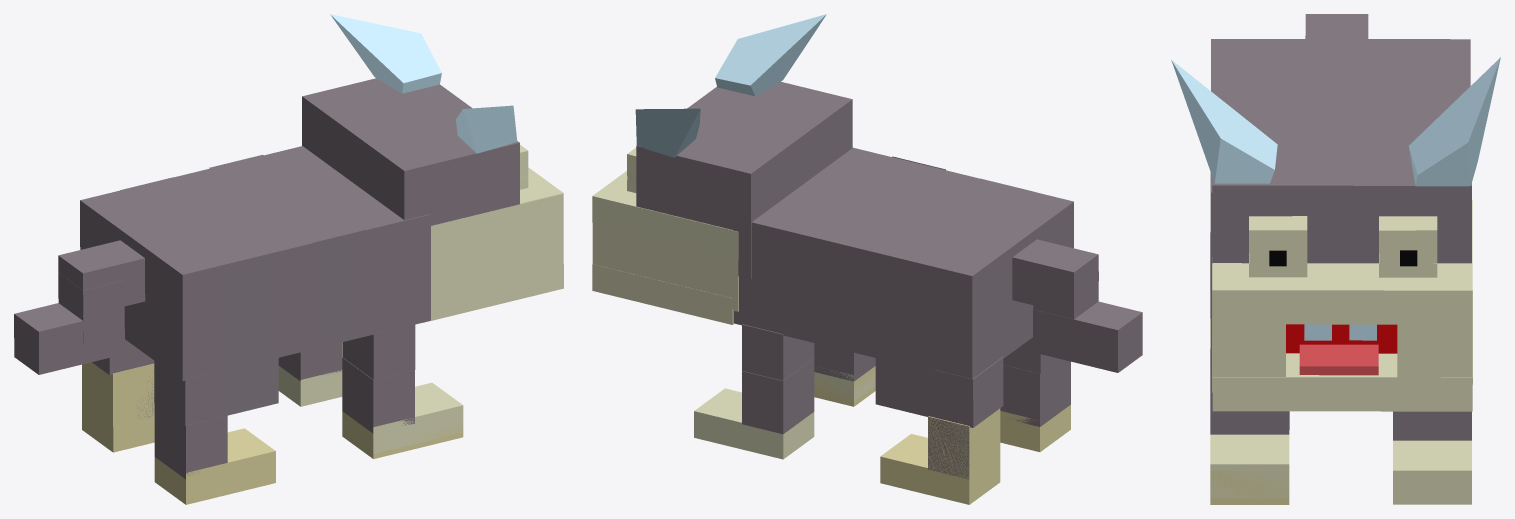
File: Kucing2.fbx
3 renders of one model, left to right at view 1: azimuth 30°, elevation 25°; view 2: azimuth 150°, elevation 25°; view 3: azimuth 270°, elevation 25°, orthographic. The views are drawn at different scales.
Visible parts, largest first — view 1: Plane.005; view 2: Plane.005; view 3: Plane.005.
Boxes of the visible parts, <box> form: Plane.005: <box>14,14,563,504</box>; Plane.005: <box>592,14,1142,504</box>; Plane.005: <box>1171,14,1500,504</box>.
Bounding box in the file's own units: 1808 × 1218 × 834.
